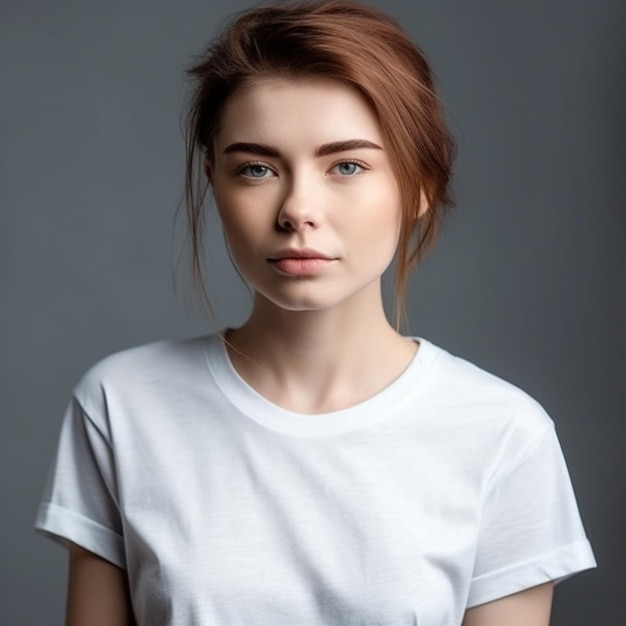teen: (188, 18, 425, 314)
